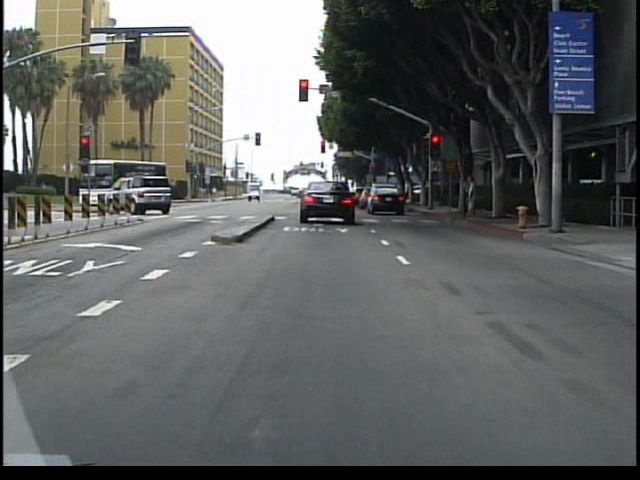person: (463, 169, 482, 219)
